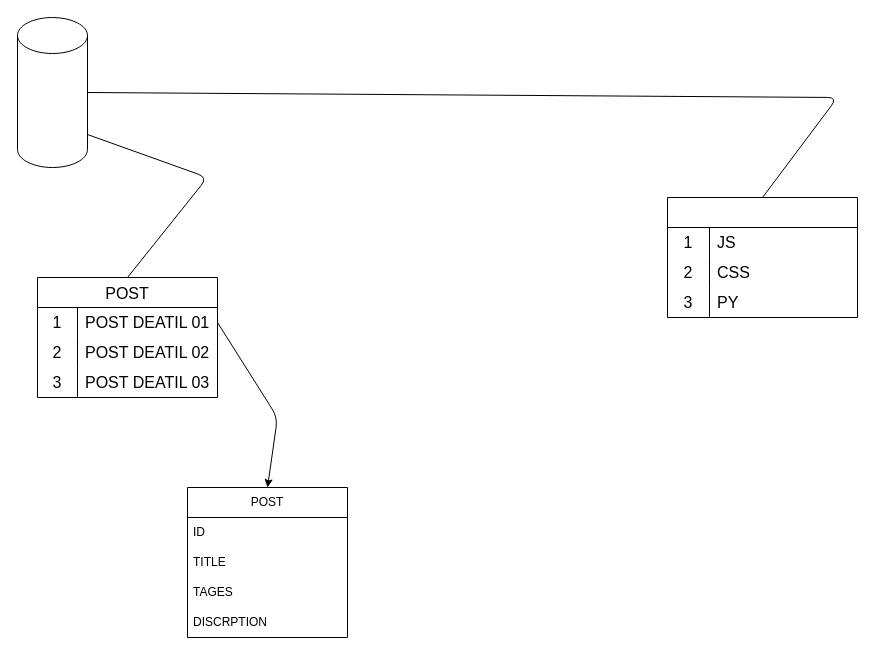
Image size: 875x655. Some labels were removed from this diagram. The box of each missing label's shape, as (x1, y1, x2, y2) in pixels:
DB: (16, 16, 88, 168)
TGAES: (666, 196, 858, 318)
